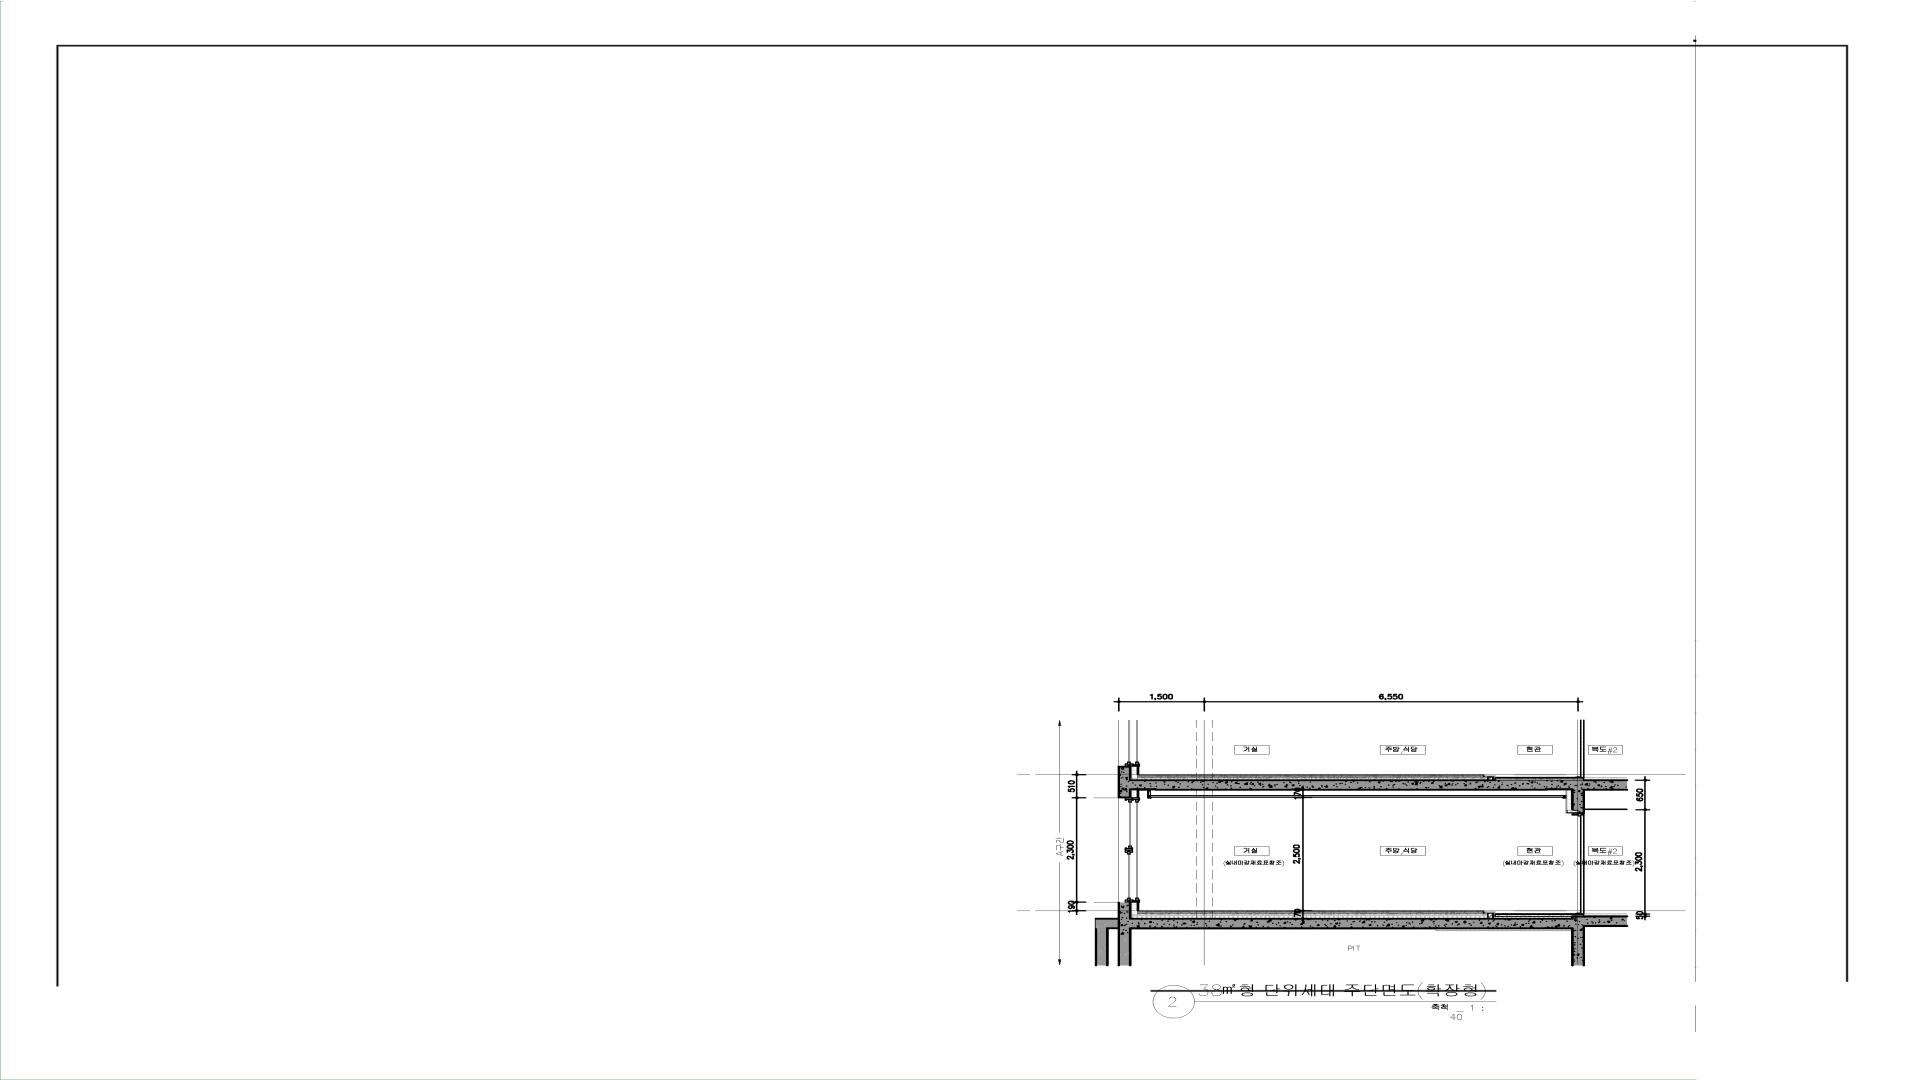door: (1576, 813, 1585, 914)
wall: (1118, 779, 1585, 813), (1095, 903, 1585, 929)
window: (1119, 797, 1140, 903)
